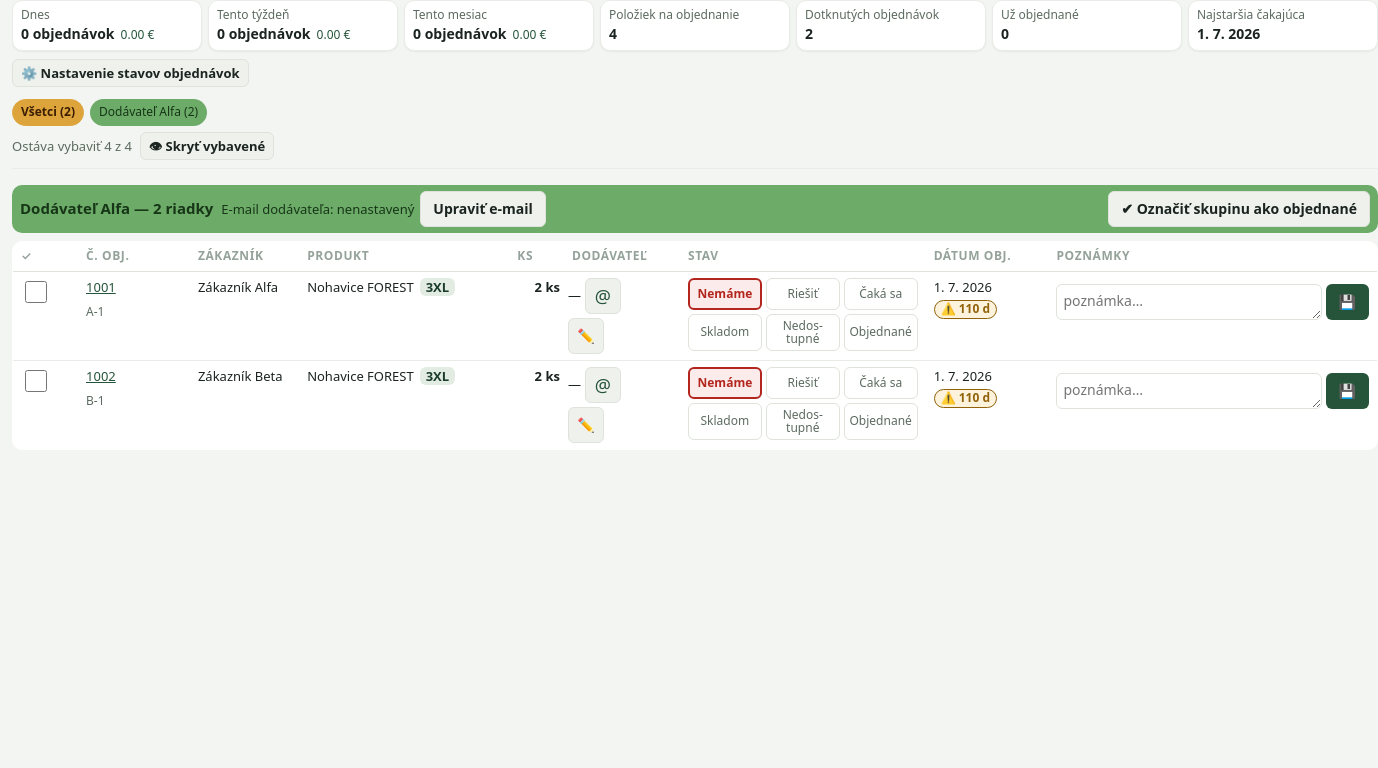
zatvorenie banner zmaže VŠETKY zostávajúce položky naraz
Click the radio button labelled "Skladom" in the row of "A-1": (725, 332) x1=688 y1=314 x2=762 y2=351
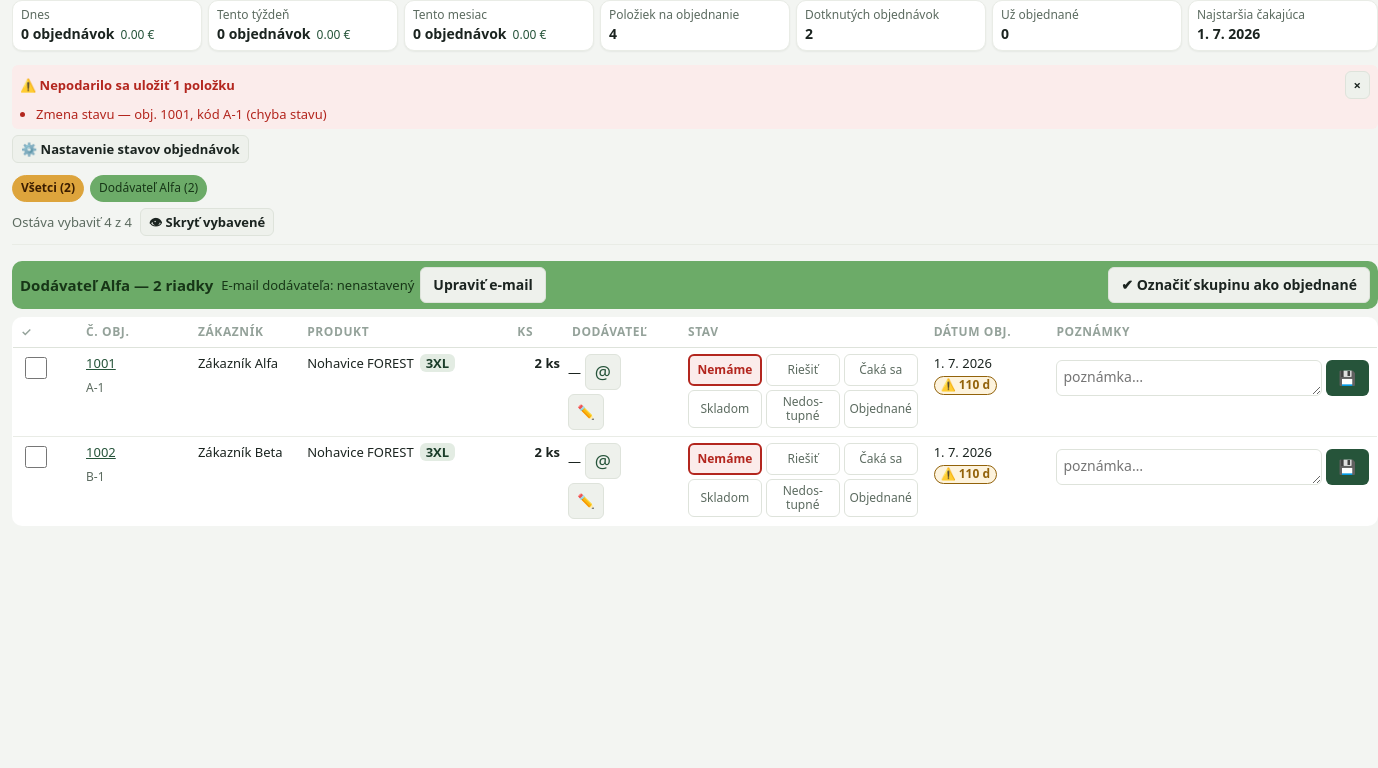
expect the message with test id "order-write-failures" shows "Nepodarilo sa uložiť 1 položku": met, box x1=20 y1=76 x2=235 y2=94
Click the checkbox named "Označiť riadok objednávky 1002 / B-1 ako objednané u dodávat": (36, 457) x1=25 y1=446 x2=47 y2=468
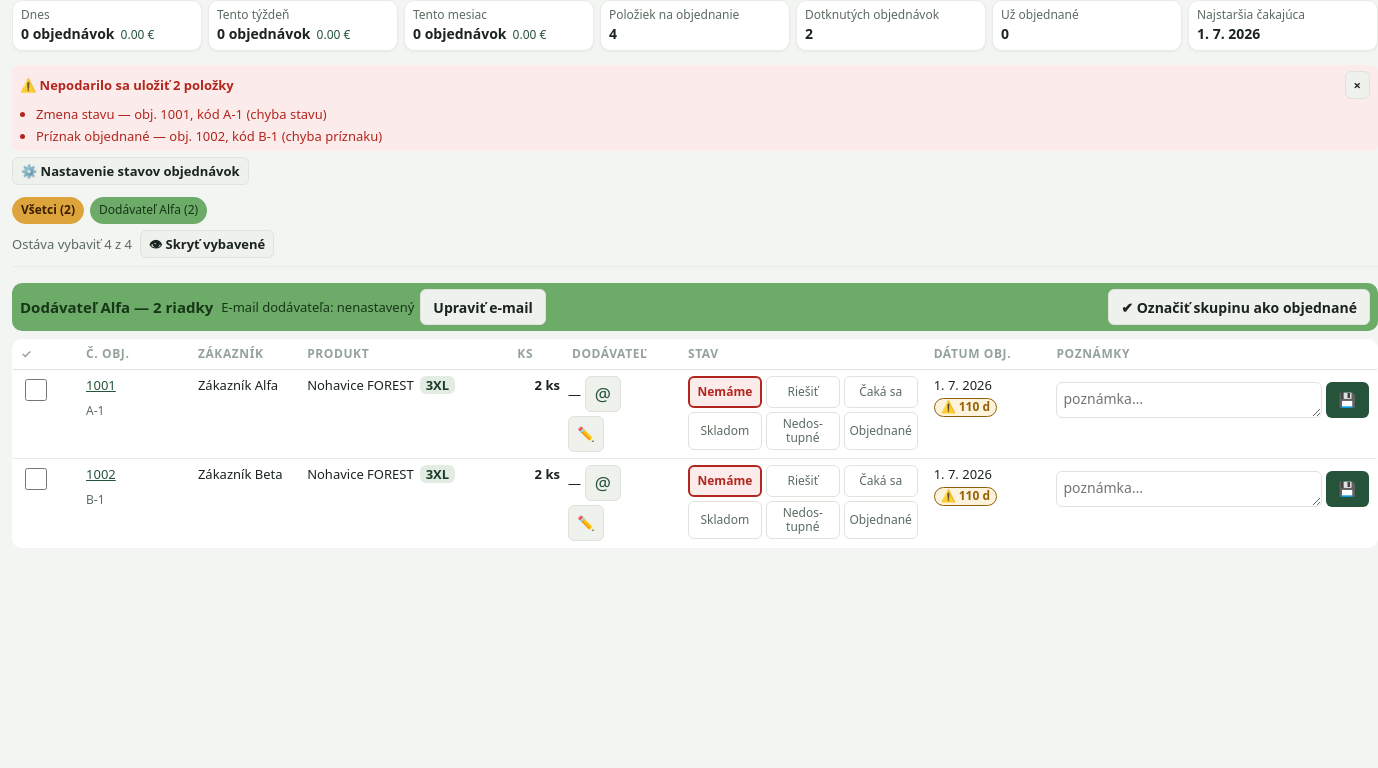
expect the message with test id "order-write-failures" shows "Nepodarilo sa uložiť 2 položky": met, box x1=20 y1=76 x2=234 y2=94
Click the button named "Zavrieť hlásenie o neuložených zmenách": (1357, 85) x1=1345 y1=71 x2=1370 y2=99
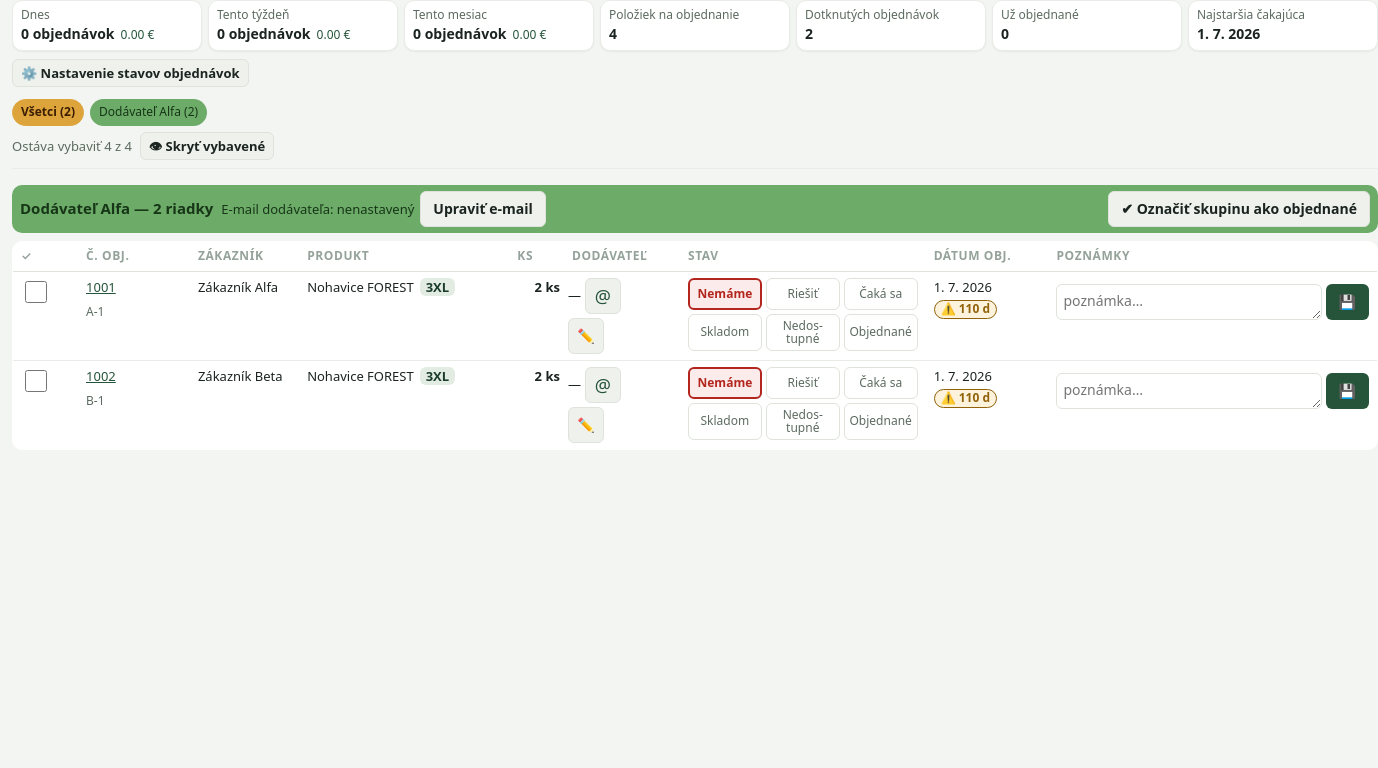
expect the message with test id "order-write-failures" is gone: met
